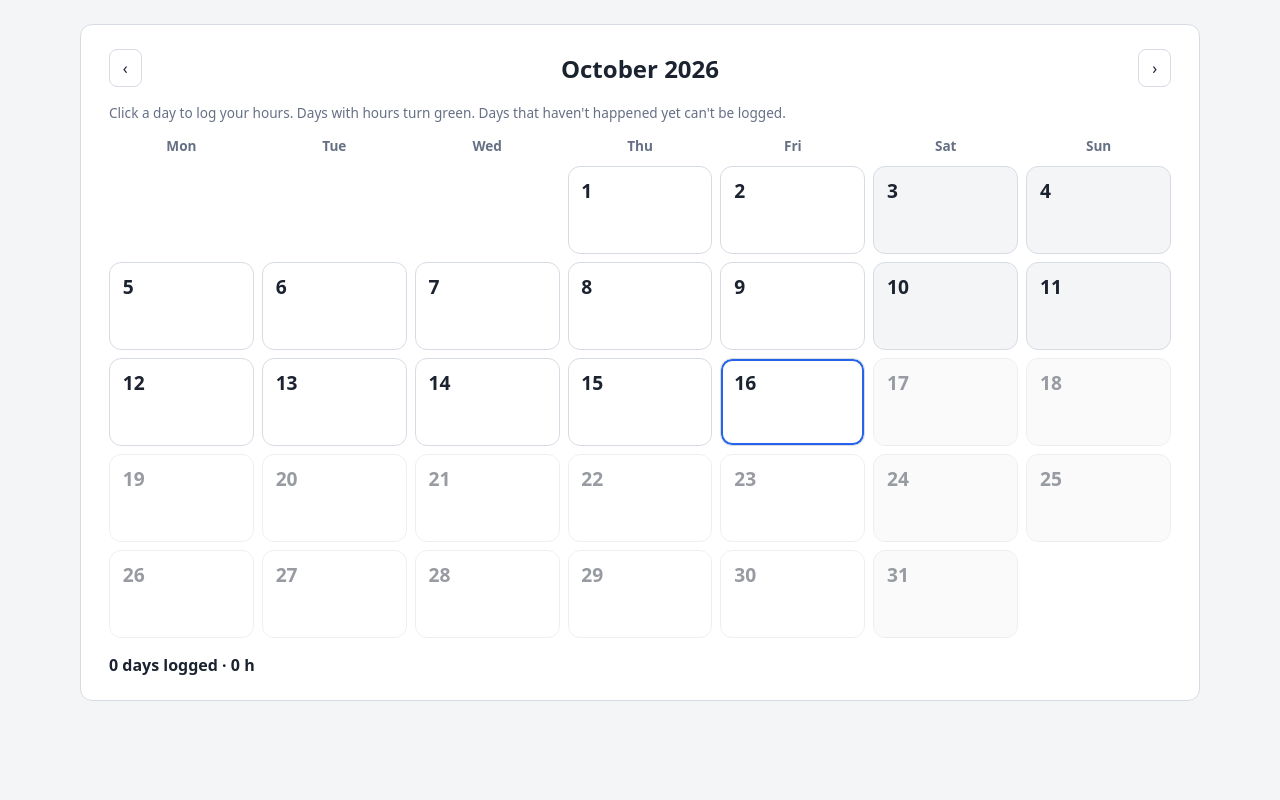
Test: logging hours › keeps the menu open, shows the error and does not turn the day green when saving fails
This screenshot has width=1280, height=800.
Click the button named "Sat, Oct 10,": (946, 306) [873,262,1018,350]
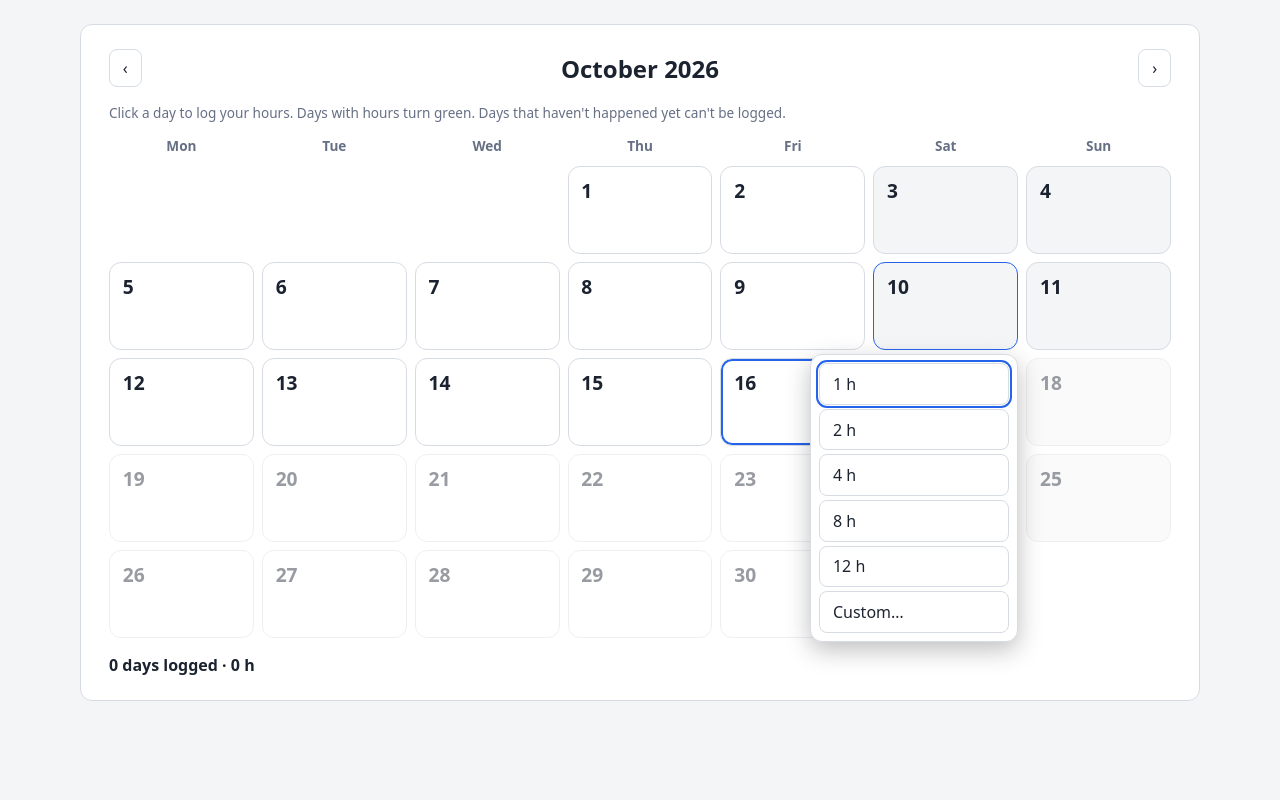
Click the button "8 h": (914, 521) [819,500,1009,542]
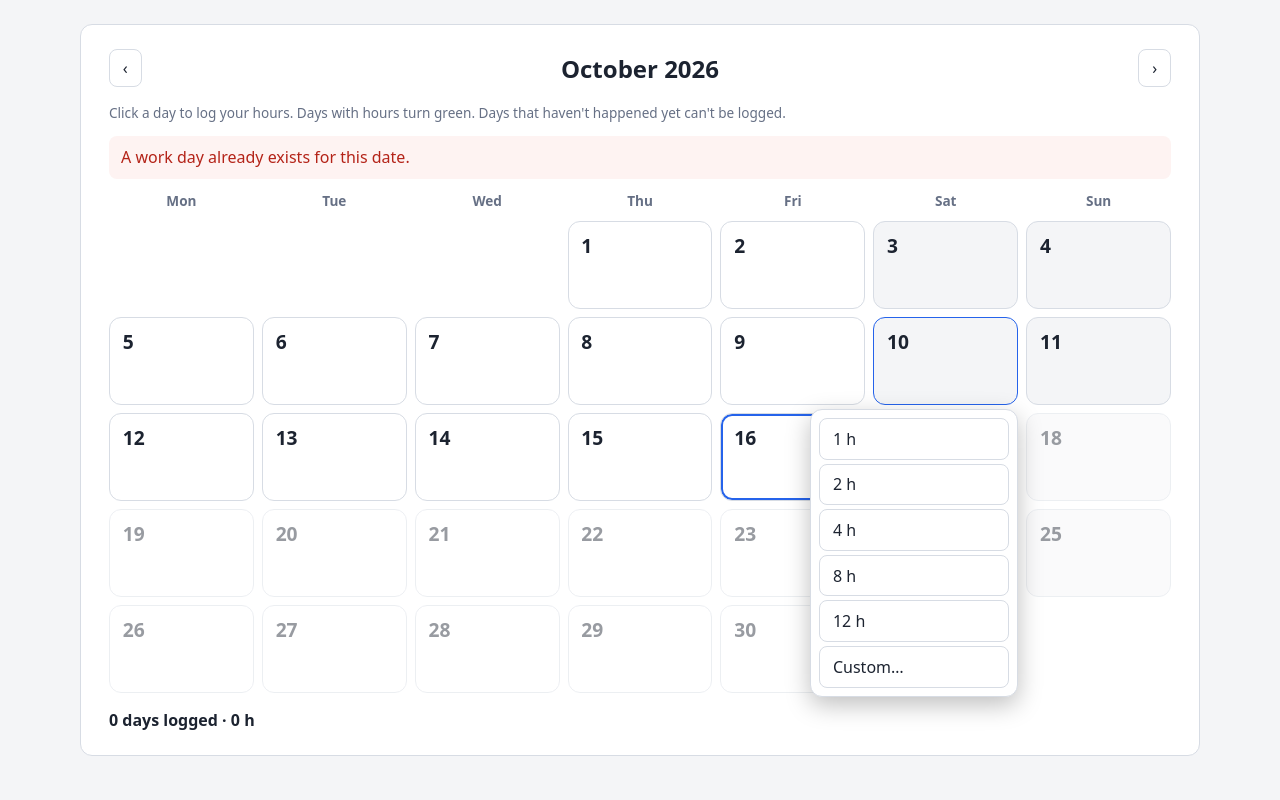
Now the message reads "A work day already exists for this date.", box [121,146,410,168]
